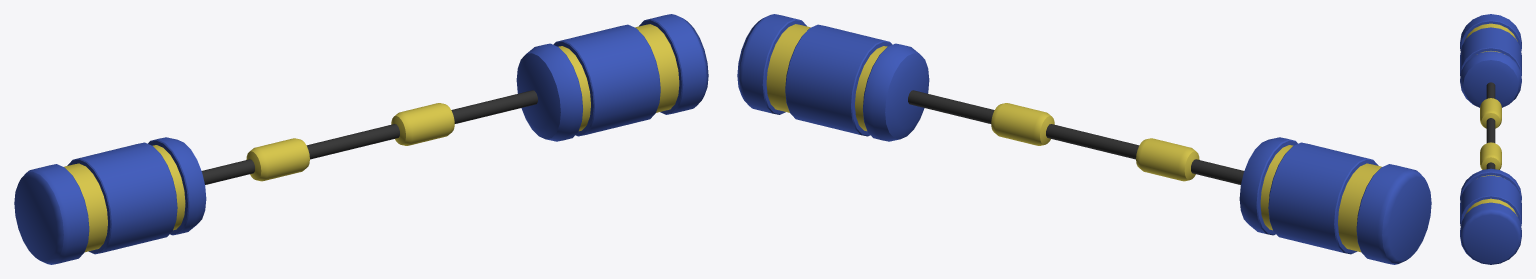
The model's file is Churraso_AZUL.fbx.
The picture shows the model from 3 angles, left to right: view 1: azimuth 30°, elevation 25°; view 2: azimuth 150°, elevation 25°; view 3: azimuth 270°, elevation 25°; orthographic projection. The views are drawn at different scales.
Visible parts, largest first — view 1: pCylinder7; view 2: pCylinder7; view 3: pCylinder7.
Part boxes in pixels (x1=…): pCylinder7: x1=14, y1=14, x2=708, y2=264; pCylinder7: x1=737, y1=14, x2=1431, y2=264; pCylinder7: x1=1460, y1=14, x2=1521, y2=264.
Bounding box in the file's own units: 11.3 × 1.48 × 1.48.
